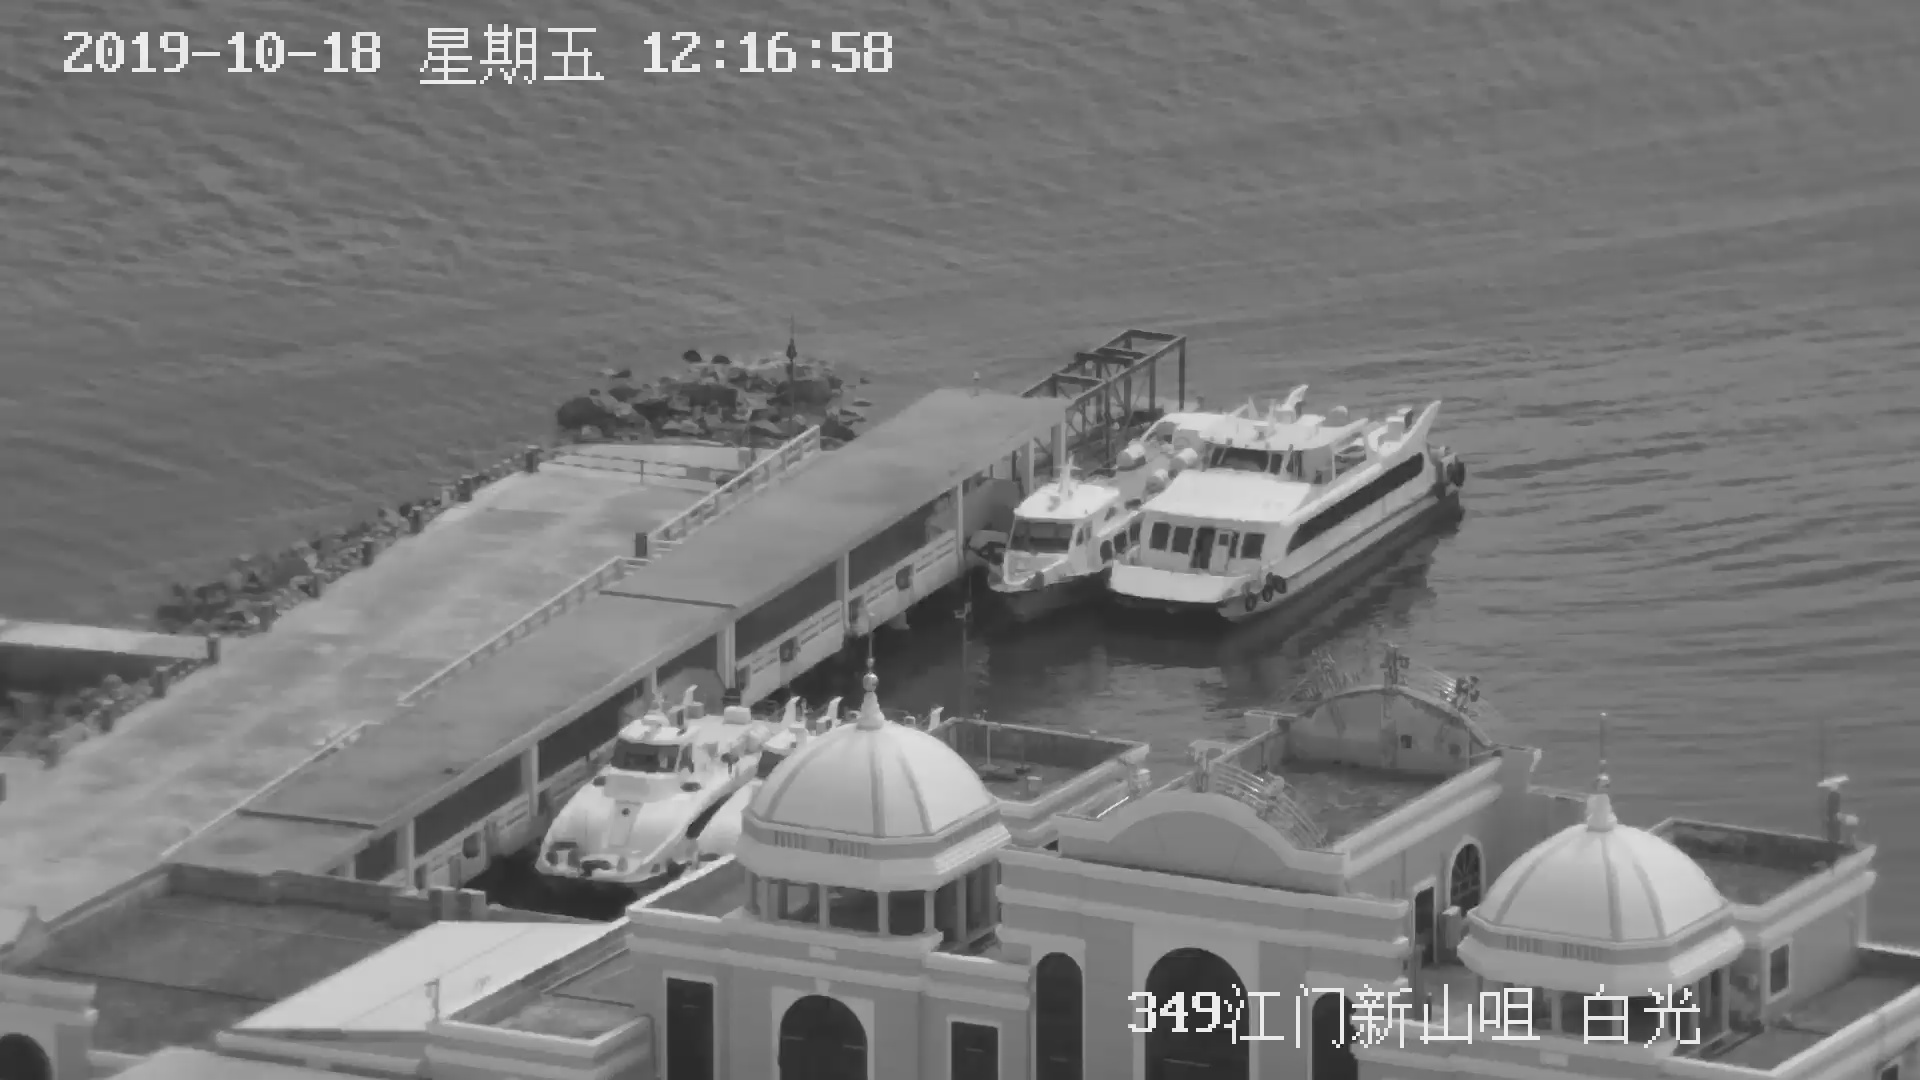ship: (1095, 386, 1462, 634), (512, 700, 803, 906), (980, 444, 1130, 613)
